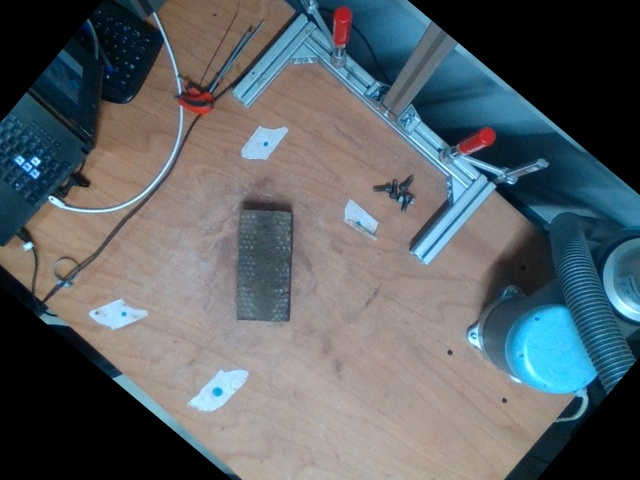brick: (235, 209, 289, 321)
